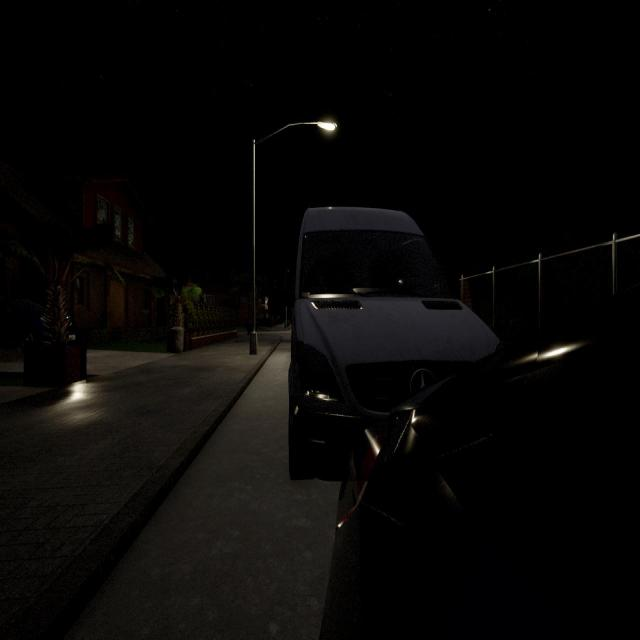Vehicle: (324, 296, 640, 638), (291, 205, 497, 490)
